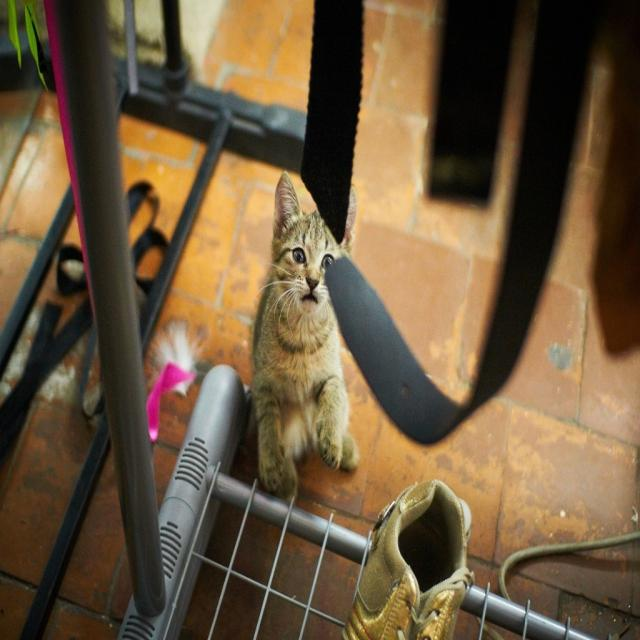Cat: (242, 165, 358, 498)
